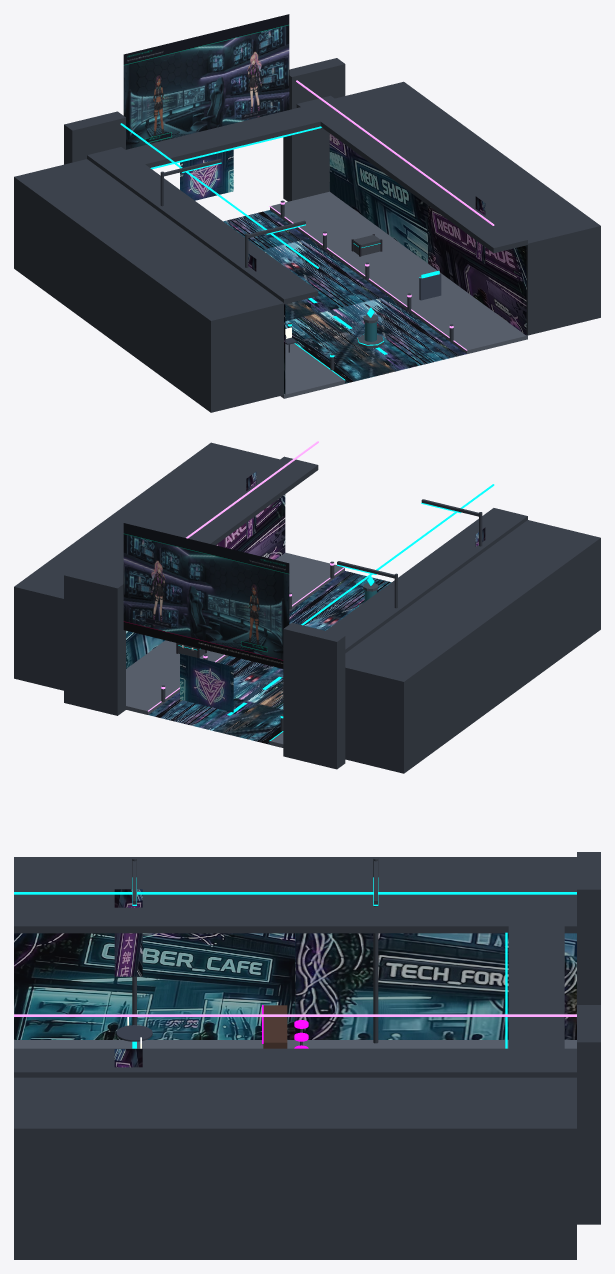
Rendered from NeoEclipse_Boulevard_Segment_01.fbx.
3 views of the same model, one above another, from view 1: azimuth 30°, elevation 25°; view 2: azimuth 150°, elevation 25°; view 3: azimuth 270°, elevation 25° (orthographic). The views are drawn at different scales.
Visible parts, largest first — view 1: Building_CyberCafe_Structure, Building_TechForge_Structure, Billboard_RadioChipset_Screen, Street_Road_Asphalt, Building_NeonArcade_Structure, Sidewalk_Right, Catwalk_Right, Catwalk_Left, Building_NeonShop_Structure, Facade_NeonArcade_Textured, Facade_NeonShop_Textured, Gateway_Pillar_Right (+6 smaller); view 2: Building_TechForge_Structure, Billboard_RadioChipset_Screen, Building_CyberCafe_Structure, Building_NeonShop_Structure, Gateway_Pillar_Left, Street_Road_Asphalt, Gateway_Pillar_Right, Building_NeonArcade_Structure, Catwalk_Left, Sidewalk_Right, Catwalk_Right, Hologram_CyberCrest_Display (+3 smaller); view 3: Building_NeonShop_Structure, Building_NeonArcade_Structure, Facade_CyberCafe_Textured, Facade_TechForge_Textured, Catwalk_Left, Catwalk_Right, Building_TechForge_Structure, Building_CyberCafe_Structure, Skybridge_Overpass_Walkway, Gateway_Pillar_Right, Sidewalk_Left, Gateway_Pillar_Left (+5 smaller).
Part boxes in pixels (x1=…): Building_CyberCafe_Structure: x1=112, y1=231, x2=283, y2=412; Building_TechForge_Structure: x1=14, y1=159, x2=184, y2=340; Billboard_RadioChipset_Screen: x1=123, y1=14, x2=289, y2=149; Street_Road_Asphalt: x1=223, y1=210, x2=466, y2=383; Building_NeonArcade_Structure: x1=433, y1=154, x2=600, y2=335; Sidewalk_Right: x1=270, y1=191, x2=527, y2=353; Catwalk_Right: x1=296, y1=95, x2=527, y2=253; Catwalk_Left: x1=87, y1=147, x2=318, y2=304; Building_NeonShop_Structure: x1=335, y1=81, x2=501, y2=170; Facade_NeonArcade_Textured: x1=428, y1=205, x2=526, y2=335; Facade_NeonShop_Textured: x1=329, y1=133, x2=427, y2=263; Gateway_Pillar_Right: x1=283, y1=58, x2=345, y2=201; Building_TechForge_Structure: x1=345, y1=592, x2=502, y2=773; Billboard_RadioChipset_Screen: x1=123, y1=523, x2=289, y2=668; Building_CyberCafe_Structure: x1=430, y1=520, x2=600, y2=701; Building_NeonShop_Structure: x1=14, y1=514, x2=181, y2=690; Gateway_Pillar_Left: x1=283, y1=623, x2=345, y2=769; Street_Road_Asphalt: x1=148, y1=571, x2=391, y2=744; Gateway_Pillar_Right: x1=64, y1=569, x2=125, y2=715; Building_NeonArcade_Structure: x1=113, y1=442, x2=279, y2=531; Catwalk_Left: x1=326, y1=508, x2=527, y2=653; Sidewalk_Right: x1=126, y1=552, x2=344, y2=714; Catwalk_Right: x1=116, y1=456, x2=318, y2=581; Hologram_CyberCrest_Display: x1=180, y1=653, x2=233, y2=712; Building_NeonShop_Structure: x1=295, y1=1077, x2=576, y2=1259; Building_NeonArcade_Structure: x1=14, y1=1077, x2=295, y2=1259; Facade_CyberCafe_Textured: x1=14, y1=933, x2=295, y2=1039; Facade_TechForge_Textured: x1=295, y1=933, x2=576, y2=1039; Catwalk_Left: x1=14, y1=902, x2=576, y2=933; Catwalk_Right: x1=14, y1=1048, x2=576, y2=1077; Building_TechForge_Structure: x1=295, y1=857, x2=576, y2=902; Building_CyberCafe_Structure: x1=14, y1=857, x2=295, y2=902; Skybridge_Overpass_Walkway: x1=508, y1=924, x2=564, y2=1050; Gateway_Pillar_Right: x1=577, y1=1005, x2=600, y2=1224; Sidewalk_Left: x1=14, y1=1040, x2=576, y2=1048; Gateway_Pillar_Left: x1=577, y1=852, x2=600, y2=1004.
Size of what is drawn, in the model's own units: 16 by 7.4 by 14.6.
